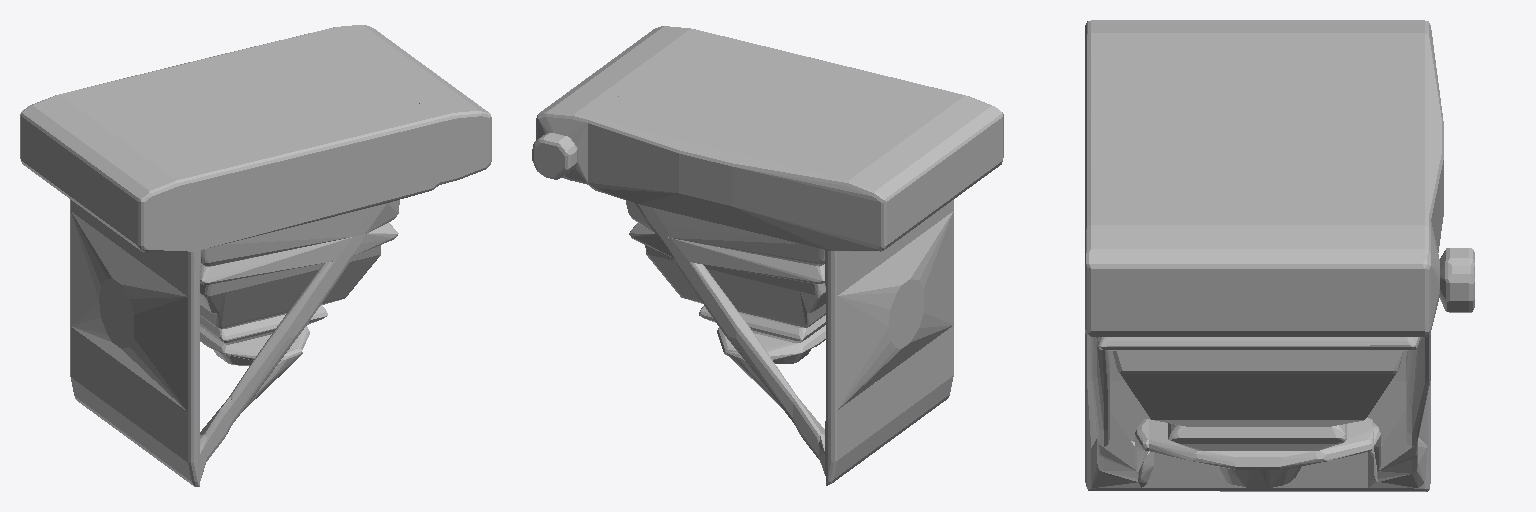
URDF robot description (root):
<robot name="root">
  <link name="link_coacd_convex_piece_0">
    <inertial>
      <origin xyz="0 0 0" rpy="0 0 0"/>
      <inertia ixx="3.41E-02" ixy="-5.13E-04" ixz="6.03E-03" iyy="4.55E-02" iyz="1.06E-03" izz="3.41E-02"/>
    </inertial>
    <visual>
      <origin xyz="0 0 0" rpy="0 0 0"/>
      <geometry>
        <mesh filename="coacd_convex_piece_0.obj" scale="1.0000E+00 1.0000E+00 1.0000E+00"/>
      </geometry>
      <material name="">
        <color rgba="7.50E-01 7.50E-01 7.50E-01 1"/>
      </material>
    </visual>
    <collision>
      <origin xyz="0 0 0" rpy="0 0 0"/>
      <geometry>
        <mesh filename="coacd_convex_piece_0.obj" scale="1.0000E+00 1.0000E+00 1.0000E+00"/>
      </geometry>
    </collision>
  </link>
  <link name="link_coacd_convex_piece_1">
    <inertial>
      <origin xyz="0 0 0" rpy="0 0 0"/>
      <inertia ixx="9.69E-05" ixy="-1.10E-04" ixz="4.64E-04" iyy="8.92E-04" iyz="-1.34E-05" izz="1.34E-03"/>
    </inertial>
    <visual>
      <origin xyz="0 0 0" rpy="0 0 0"/>
      <geometry>
        <mesh filename="coacd_convex_piece_1.obj" scale="1.0000E+00 1.0000E+00 1.0000E+00"/>
      </geometry>
      <material name="">
        <color rgba="7.50E-01 7.50E-01 7.50E-01 1"/>
      </material>
    </visual>
    <collision>
      <origin xyz="0 0 0" rpy="0 0 0"/>
      <geometry>
        <mesh filename="coacd_convex_piece_1.obj" scale="1.0000E+00 1.0000E+00 1.0000E+00"/>
      </geometry>
    </collision>
  </link>
  <joint name="link_coacd_convex_piece_1_joint" type="fixed">
    <origin xyz="0 0 0" rpy="0 0 0"/>
    <parent link="link_coacd_convex_piece_0"/>
    <child link="link_coacd_convex_piece_1"/>
  </joint>
  <link name="link_coacd_convex_piece_2">
    <inertial>
      <origin xyz="0 0 0" rpy="0 0 0"/>
      <inertia ixx="-1.05E-04" ixy="-4.88E-07" ixz="-1.37E-04" iyy="-1.54E-04" iyz="-1.51E-04" izz="1.48E-04"/>
    </inertial>
    <visual>
      <origin xyz="0 0 0" rpy="0 0 0"/>
      <geometry>
        <mesh filename="coacd_convex_piece_2.obj" scale="1.0000E+00 1.0000E+00 1.0000E+00"/>
      </geometry>
      <material name="">
        <color rgba="7.50E-01 7.50E-01 7.50E-01 1"/>
      </material>
    </visual>
    <collision>
      <origin xyz="0 0 0" rpy="0 0 0"/>
      <geometry>
        <mesh filename="coacd_convex_piece_2.obj" scale="1.0000E+00 1.0000E+00 1.0000E+00"/>
      </geometry>
    </collision>
  </link>
  <joint name="link_coacd_convex_piece_2_joint" type="fixed">
    <origin xyz="0 0 0" rpy="0 0 0"/>
    <parent link="link_coacd_convex_piece_1"/>
    <child link="link_coacd_convex_piece_2"/>
  </joint>
  <link name="link_coacd_convex_piece_3">
    <inertial>
      <origin xyz="0 0 0" rpy="0 0 0"/>
      <inertia ixx="1.36E-03" ixy="-2.18E-05" ixz="-2.93E-05" iyy="1.25E-03" iyz="-8.63E-05" izz="4.49E-03"/>
    </inertial>
    <visual>
      <origin xyz="0 0 0" rpy="0 0 0"/>
      <geometry>
        <mesh filename="coacd_convex_piece_3.obj" scale="1.0000E+00 1.0000E+00 1.0000E+00"/>
      </geometry>
      <material name="">
        <color rgba="7.50E-01 7.50E-01 7.50E-01 1"/>
      </material>
    </visual>
    <collision>
      <origin xyz="0 0 0" rpy="0 0 0"/>
      <geometry>
        <mesh filename="coacd_convex_piece_3.obj" scale="1.0000E+00 1.0000E+00 1.0000E+00"/>
      </geometry>
    </collision>
  </link>
  <joint name="link_coacd_convex_piece_3_joint" type="fixed">
    <origin xyz="0 0 0" rpy="0 0 0"/>
    <parent link="link_coacd_convex_piece_2"/>
    <child link="link_coacd_convex_piece_3"/>
  </joint>
  <link name="link_coacd_convex_piece_4">
    <inertial>
      <origin xyz="0 0 0" rpy="0 0 0"/>
      <inertia ixx="-2.73E-04" ixy="-1.05E-05" ixz="-1.44E-04" iyy="-4.40E-04" iyz="-1.98E-04" izz="3.05E-03"/>
    </inertial>
    <visual>
      <origin xyz="0 0 0" rpy="0 0 0"/>
      <geometry>
        <mesh filename="coacd_convex_piece_4.obj" scale="1.0000E+00 1.0000E+00 1.0000E+00"/>
      </geometry>
      <material name="">
        <color rgba="7.50E-01 7.50E-01 7.50E-01 1"/>
      </material>
    </visual>
    <collision>
      <origin xyz="0 0 0" rpy="0 0 0"/>
      <geometry>
        <mesh filename="coacd_convex_piece_4.obj" scale="1.0000E+00 1.0000E+00 1.0000E+00"/>
      </geometry>
    </collision>
  </link>
  <joint name="link_coacd_convex_piece_4_joint" type="fixed">
    <origin xyz="0 0 0" rpy="0 0 0"/>
    <parent link="link_coacd_convex_piece_3"/>
    <child link="link_coacd_convex_piece_4"/>
  </joint>
  <link name="link_coacd_convex_piece_5">
    <inertial>
      <origin xyz="0 0 0" rpy="0 0 0"/>
      <inertia ixx="6.57E-05" ixy="4.93E-05" ixz="-5.68E-05" iyy="-7.94E-05" iyz="2.20E-05" izz="2.08E-04"/>
    </inertial>
    <visual>
      <origin xyz="0 0 0" rpy="0 0 0"/>
      <geometry>
        <mesh filename="coacd_convex_piece_5.obj" scale="1.0000E+00 1.0000E+00 1.0000E+00"/>
      </geometry>
      <material name="">
        <color rgba="7.50E-01 7.50E-01 7.50E-01 1"/>
      </material>
    </visual>
    <collision>
      <origin xyz="0 0 0" rpy="0 0 0"/>
      <geometry>
        <mesh filename="coacd_convex_piece_5.obj" scale="1.0000E+00 1.0000E+00 1.0000E+00"/>
      </geometry>
    </collision>
  </link>
  <joint name="link_coacd_convex_piece_5_joint" type="fixed">
    <origin xyz="0 0 0" rpy="0 0 0"/>
    <parent link="link_coacd_convex_piece_4"/>
    <child link="link_coacd_convex_piece_5"/>
  </joint>
  <link name="link_coacd_convex_piece_6">
    <inertial>
      <origin xyz="0 0 0" rpy="0 0 0"/>
      <inertia ixx="-1.96E-04" ixy="-6.69E-05" ixz="6.57E-05" iyy="1.43E-04" iyz="-4.44E-05" izz="6.41E-04"/>
    </inertial>
    <visual>
      <origin xyz="0 0 0" rpy="0 0 0"/>
      <geometry>
        <mesh filename="coacd_convex_piece_6.obj" scale="1.0000E+00 1.0000E+00 1.0000E+00"/>
      </geometry>
      <material name="">
        <color rgba="7.50E-01 7.50E-01 7.50E-01 1"/>
      </material>
    </visual>
    <collision>
      <origin xyz="0 0 0" rpy="0 0 0"/>
      <geometry>
        <mesh filename="coacd_convex_piece_6.obj" scale="1.0000E+00 1.0000E+00 1.0000E+00"/>
      </geometry>
    </collision>
  </link>
  <joint name="link_coacd_convex_piece_6_joint" type="fixed">
    <origin xyz="0 0 0" rpy="0 0 0"/>
    <parent link="link_coacd_convex_piece_5"/>
    <child link="link_coacd_convex_piece_6"/>
  </joint>
  <link name="link_coacd_convex_piece_7">
    <inertial>
      <origin xyz="0 0 0" rpy="0 0 0"/>
      <inertia ixx="-4.03E-04" ixy="-3.81E-04" ixz="-7.99E-04" iyy="2.71E-03" iyz="-3.07E-04" izz="4.66E-03"/>
    </inertial>
    <visual>
      <origin xyz="0 0 0" rpy="0 0 0"/>
      <geometry>
        <mesh filename="coacd_convex_piece_7.obj" scale="1.0000E+00 1.0000E+00 1.0000E+00"/>
      </geometry>
      <material name="">
        <color rgba="7.50E-01 7.50E-01 7.50E-01 1"/>
      </material>
    </visual>
    <collision>
      <origin xyz="0 0 0" rpy="0 0 0"/>
      <geometry>
        <mesh filename="coacd_convex_piece_7.obj" scale="1.0000E+00 1.0000E+00 1.0000E+00"/>
      </geometry>
    </collision>
  </link>
  <joint name="link_coacd_convex_piece_7_joint" type="fixed">
    <origin xyz="0 0 0" rpy="0 0 0"/>
    <parent link="link_coacd_convex_piece_6"/>
    <child link="link_coacd_convex_piece_7"/>
  </joint>
  <link name="link_coacd_convex_piece_8">
    <inertial>
      <origin xyz="0 0 0" rpy="0 0 0"/>
      <inertia ixx="1.07E-03" ixy="-1.59E-04" ixz="-1.49E-03" iyy="2.22E-03" iyz="-2.59E-04" izz="1.93E-03"/>
    </inertial>
    <visual>
      <origin xyz="0 0 0" rpy="0 0 0"/>
      <geometry>
        <mesh filename="coacd_convex_piece_8.obj" scale="1.0000E+00 1.0000E+00 1.0000E+00"/>
      </geometry>
      <material name="">
        <color rgba="7.50E-01 7.50E-01 7.50E-01 1"/>
      </material>
    </visual>
    <collision>
      <origin xyz="0 0 0" rpy="0 0 0"/>
      <geometry>
        <mesh filename="coacd_convex_piece_8.obj" scale="1.0000E+00 1.0000E+00 1.0000E+00"/>
      </geometry>
    </collision>
  </link>
  <joint name="link_coacd_convex_piece_8_joint" type="fixed">
    <origin xyz="0 0 0" rpy="0 0 0"/>
    <parent link="link_coacd_convex_piece_7"/>
    <child link="link_coacd_convex_piece_8"/>
  </joint>
  <link name="link_coacd_convex_piece_9">
    <inertial>
      <origin xyz="0 0 0" rpy="0 0 0"/>
      <inertia ixx="3.09E-04" ixy="-2.52E-04" ixz="-2.84E-04" iyy="4.63E-04" iyz="-2.18E-04" izz="5.29E-04"/>
    </inertial>
    <visual>
      <origin xyz="0 0 0" rpy="0 0 0"/>
      <geometry>
        <mesh filename="coacd_convex_piece_9.obj" scale="1.0000E+00 1.0000E+00 1.0000E+00"/>
      </geometry>
      <material name="">
        <color rgba="7.50E-01 7.50E-01 7.50E-01 1"/>
      </material>
    </visual>
    <collision>
      <origin xyz="0 0 0" rpy="0 0 0"/>
      <geometry>
        <mesh filename="coacd_convex_piece_9.obj" scale="1.0000E+00 1.0000E+00 1.0000E+00"/>
      </geometry>
    </collision>
  </link>
  <joint name="link_coacd_convex_piece_9_joint" type="fixed">
    <origin xyz="0 0 0" rpy="0 0 0"/>
    <parent link="link_coacd_convex_piece_8"/>
    <child link="link_coacd_convex_piece_9"/>
  </joint>
  <link name="link_coacd_convex_piece_10">
    <inertial>
      <origin xyz="0 0 0" rpy="0 0 0"/>
      <inertia ixx="5.53E-03" ixy="9.15E-04" ixz="-8.52E-03" iyy="1.42E-02" iyz="2.16E-04" izz="1.22E-02"/>
    </inertial>
    <visual>
      <origin xyz="0 0 0" rpy="0 0 0"/>
      <geometry>
        <mesh filename="coacd_convex_piece_10.obj" scale="1.0000E+00 1.0000E+00 1.0000E+00"/>
      </geometry>
      <material name="">
        <color rgba="7.50E-01 7.50E-01 7.50E-01 1"/>
      </material>
    </visual>
    <collision>
      <origin xyz="0 0 0" rpy="0 0 0"/>
      <geometry>
        <mesh filename="coacd_convex_piece_10.obj" scale="1.0000E+00 1.0000E+00 1.0000E+00"/>
      </geometry>
    </collision>
  </link>
  <joint name="link_coacd_convex_piece_10_joint" type="fixed">
    <origin xyz="0 0 0" rpy="0 0 0"/>
    <parent link="link_coacd_convex_piece_9"/>
    <child link="link_coacd_convex_piece_10"/>
  </joint>
  <link name="link_coacd_convex_piece_11">
    <inertial>
      <origin xyz="0 0 0" rpy="0 0 0"/>
      <inertia ixx="-3.49E-03" ixy="4.41E-05" ixz="-8.05E-04" iyy="-3.84E-03" iyz="-8.83E-04" izz="3.74E-03"/>
    </inertial>
    <visual>
      <origin xyz="0 0 0" rpy="0 0 0"/>
      <geometry>
        <mesh filename="coacd_convex_piece_11.obj" scale="1.0000E+00 1.0000E+00 1.0000E+00"/>
      </geometry>
      <material name="">
        <color rgba="7.50E-01 7.50E-01 7.50E-01 1"/>
      </material>
    </visual>
    <collision>
      <origin xyz="0 0 0" rpy="0 0 0"/>
      <geometry>
        <mesh filename="coacd_convex_piece_11.obj" scale="1.0000E+00 1.0000E+00 1.0000E+00"/>
      </geometry>
    </collision>
  </link>
  <joint name="link_coacd_convex_piece_11_joint" type="fixed">
    <origin xyz="0 0 0" rpy="0 0 0"/>
    <parent link="link_coacd_convex_piece_10"/>
    <child link="link_coacd_convex_piece_11"/>
  </joint>
  <link name="link_coacd_convex_piece_12">
    <inertial>
      <origin xyz="0 0 0" rpy="0 0 0"/>
      <inertia ixx="1.53E-04" ixy="-5.00E-05" ixz="-4.79E-05" iyy="-5.66E-05" iyz="-7.41E-05" izz="2.65E-04"/>
    </inertial>
    <visual>
      <origin xyz="0 0 0" rpy="0 0 0"/>
      <geometry>
        <mesh filename="coacd_convex_piece_12.obj" scale="1.0000E+00 1.0000E+00 1.0000E+00"/>
      </geometry>
      <material name="">
        <color rgba="7.50E-01 7.50E-01 7.50E-01 1"/>
      </material>
    </visual>
    <collision>
      <origin xyz="0 0 0" rpy="0 0 0"/>
      <geometry>
        <mesh filename="coacd_convex_piece_12.obj" scale="1.0000E+00 1.0000E+00 1.0000E+00"/>
      </geometry>
    </collision>
  </link>
  <joint name="link_coacd_convex_piece_12_joint" type="fixed">
    <origin xyz="0 0 0" rpy="0 0 0"/>
    <parent link="link_coacd_convex_piece_11"/>
    <child link="link_coacd_convex_piece_12"/>
  </joint>
  <link name="link_coacd_convex_piece_13">
    <inertial>
      <origin xyz="0 0 0" rpy="0 0 0"/>
      <inertia ixx="1.16E-04" ixy="-6.34E-05" ixz="-8.76E-05" iyy="1.32E-04" iyz="-7.88E-05" izz="1.28E-04"/>
    </inertial>
    <visual>
      <origin xyz="0 0 0" rpy="0 0 0"/>
      <geometry>
        <mesh filename="coacd_convex_piece_13.obj" scale="1.0000E+00 1.0000E+00 1.0000E+00"/>
      </geometry>
      <material name="">
        <color rgba="7.50E-01 7.50E-01 7.50E-01 1"/>
      </material>
    </visual>
    <collision>
      <origin xyz="0 0 0" rpy="0 0 0"/>
      <geometry>
        <mesh filename="coacd_convex_piece_13.obj" scale="1.0000E+00 1.0000E+00 1.0000E+00"/>
      </geometry>
    </collision>
  </link>
  <joint name="link_coacd_convex_piece_13_joint" type="fixed">
    <origin xyz="0 0 0" rpy="0 0 0"/>
    <parent link="link_coacd_convex_piece_12"/>
    <child link="link_coacd_convex_piece_13"/>
  </joint>
  <link name="link_coacd_convex_piece_14">
    <inertial>
      <origin xyz="0 0 0" rpy="0 0 0"/>
      <inertia ixx="1.30E-05" ixy="7.32E-06" ixz="-1.29E-05" iyy="9.36E-06" iyz="1.13E-05" izz="1.52E-05"/>
    </inertial>
    <visual>
      <origin xyz="0 0 0" rpy="0 0 0"/>
      <geometry>
        <mesh filename="coacd_convex_piece_14.obj" scale="1.0000E+00 1.0000E+00 1.0000E+00"/>
      </geometry>
      <material name="">
        <color rgba="7.50E-01 7.50E-01 7.50E-01 1"/>
      </material>
    </visual>
    <collision>
      <origin xyz="0 0 0" rpy="0 0 0"/>
      <geometry>
        <mesh filename="coacd_convex_piece_14.obj" scale="1.0000E+00 1.0000E+00 1.0000E+00"/>
      </geometry>
    </collision>
  </link>
  <joint name="link_coacd_convex_piece_14_joint" type="fixed">
    <origin xyz="0 0 0" rpy="0 0 0"/>
    <parent link="link_coacd_convex_piece_13"/>
    <child link="link_coacd_convex_piece_14"/>
  </joint>
  <link name="link_coacd_convex_piece_15">
    <inertial>
      <origin xyz="0 0 0" rpy="0 0 0"/>
      <inertia ixx="-4.66E-04" ixy="-3.99E-06" ixz="-1.79E-04" iyy="-4.67E-04" iyz="-2.17E-04" izz="2.43E-04"/>
    </inertial>
    <visual>
      <origin xyz="0 0 0" rpy="0 0 0"/>
      <geometry>
        <mesh filename="coacd_convex_piece_15.obj" scale="1.0000E+00 1.0000E+00 1.0000E+00"/>
      </geometry>
      <material name="">
        <color rgba="7.50E-01 7.50E-01 7.50E-01 1"/>
      </material>
    </visual>
    <collision>
      <origin xyz="0 0 0" rpy="0 0 0"/>
      <geometry>
        <mesh filename="coacd_convex_piece_15.obj" scale="1.0000E+00 1.0000E+00 1.0000E+00"/>
      </geometry>
    </collision>
  </link>
  <joint name="link_coacd_convex_piece_15_joint" type="fixed">
    <origin xyz="0 0 0" rpy="0 0 0"/>
    <parent link="link_coacd_convex_piece_14"/>
    <child link="link_coacd_convex_piece_15"/>
  </joint>
  <link name="link_coacd_convex_piece_16">
    <inertial>
      <origin xyz="0 0 0" rpy="0 0 0"/>
      <inertia ixx="4.31E-05" ixy="-1.65E-05" ixz="-2.22E-05" iyy="1.19E-05" iyz="-4.43E-05" izz="4.91E-05"/>
    </inertial>
    <visual>
      <origin xyz="0 0 0" rpy="0 0 0"/>
      <geometry>
        <mesh filename="coacd_convex_piece_16.obj" scale="1.0000E+00 1.0000E+00 1.0000E+00"/>
      </geometry>
      <material name="">
        <color rgba="7.50E-01 7.50E-01 7.50E-01 1"/>
      </material>
    </visual>
    <collision>
      <origin xyz="0 0 0" rpy="0 0 0"/>
      <geometry>
        <mesh filename="coacd_convex_piece_16.obj" scale="1.0000E+00 1.0000E+00 1.0000E+00"/>
      </geometry>
    </collision>
  </link>
  <joint name="link_coacd_convex_piece_16_joint" type="fixed">
    <origin xyz="0 0 0" rpy="0 0 0"/>
    <parent link="link_coacd_convex_piece_15"/>
    <child link="link_coacd_convex_piece_16"/>
  </joint>
  <link name="link_coacd_convex_piece_17">
    <inertial>
      <origin xyz="0 0 0" rpy="0 0 0"/>
      <inertia ixx="8.26E-06" ixy="-9.40E-07" ixz="-5.45E-05" iyy="8.78E-06" iyz="-6.43E-05" izz="1.49E-05"/>
    </inertial>
    <visual>
      <origin xyz="0 0 0" rpy="0 0 0"/>
      <geometry>
        <mesh filename="coacd_convex_piece_17.obj" scale="1.0000E+00 1.0000E+00 1.0000E+00"/>
      </geometry>
      <material name="">
        <color rgba="7.50E-01 7.50E-01 7.50E-01 1"/>
      </material>
    </visual>
    <collision>
      <origin xyz="0 0 0" rpy="0 0 0"/>
      <geometry>
        <mesh filename="coacd_convex_piece_17.obj" scale="1.0000E+00 1.0000E+00 1.0000E+00"/>
      </geometry>
    </collision>
  </link>
  <joint name="link_coacd_convex_piece_17_joint" type="fixed">
    <origin xyz="0 0 0" rpy="0 0 0"/>
    <parent link="link_coacd_convex_piece_16"/>
    <child link="link_coacd_convex_piece_17"/>
  </joint>
  <link name="link_coacd_convex_piece_18">
    <inertial>
      <origin xyz="0 0 0" rpy="0 0 0"/>
      <inertia ixx="1.31E-04" ixy="7.90E-05" ixz="-1.28E-04" iyy="1.71E-04" iyz="7.98E-05" izz="1.58E-04"/>
    </inertial>
    <visual>
      <origin xyz="0 0 0" rpy="0 0 0"/>
      <geometry>
        <mesh filename="coacd_convex_piece_18.obj" scale="1.0000E+00 1.0000E+00 1.0000E+00"/>
      </geometry>
      <material name="">
        <color rgba="7.50E-01 7.50E-01 7.50E-01 1"/>
      </material>
    </visual>
    <collision>
      <origin xyz="0 0 0" rpy="0 0 0"/>
      <geometry>
        <mesh filename="coacd_convex_piece_18.obj" scale="1.0000E+00 1.0000E+00 1.0000E+00"/>
      </geometry>
    </collision>
  </link>
  <joint name="link_coacd_convex_piece_18_joint" type="fixed">
    <origin xyz="0 0 0" rpy="0 0 0"/>
    <parent link="link_coacd_convex_piece_17"/>
    <child link="link_coacd_convex_piece_18"/>
  </joint>
  <link name="link_coacd_convex_piece_19">
    <inertial>
      <origin xyz="0 0 0" rpy="0 0 0"/>
      <inertia ixx="7.77E-05" ixy="4.13E-05" ixz="-7.58E-05" iyy="1.14E-04" iyz="4.14E-05" izz="8.83E-05"/>
    </inertial>
    <visual>
      <origin xyz="0 0 0" rpy="0 0 0"/>
      <geometry>
        <mesh filename="coacd_convex_piece_19.obj" scale="1.0000E+00 1.0000E+00 1.0000E+00"/>
      </geometry>
      <material name="">
        <color rgba="7.50E-01 7.50E-01 7.50E-01 1"/>
      </material>
    </visual>
    <collision>
      <origin xyz="0 0 0" rpy="0 0 0"/>
      <geometry>
        <mesh filename="coacd_convex_piece_19.obj" scale="1.0000E+00 1.0000E+00 1.0000E+00"/>
      </geometry>
    </collision>
  </link>
  <joint name="link_coacd_convex_piece_19_joint" type="fixed">
    <origin xyz="0 0 0" rpy="0 0 0"/>
    <parent link="link_coacd_convex_piece_18"/>
    <child link="link_coacd_convex_piece_19"/>
  </joint>
  <link name="link_coacd_convex_piece_20">
    <inertial>
      <origin xyz="0 0 0" rpy="0 0 0"/>
      <inertia ixx="1.81E-04" ixy="-1.04E-04" ixz="-1.26E-04" iyy="1.68E-04" iyz="-1.35E-04" izz="2.10E-04"/>
    </inertial>
    <visual>
      <origin xyz="0 0 0" rpy="0 0 0"/>
      <geometry>
        <mesh filename="coacd_convex_piece_20.obj" scale="1.0000E+00 1.0000E+00 1.0000E+00"/>
      </geometry>
      <material name="">
        <color rgba="7.50E-01 7.50E-01 7.50E-01 1"/>
      </material>
    </visual>
    <collision>
      <origin xyz="0 0 0" rpy="0 0 0"/>
      <geometry>
        <mesh filename="coacd_convex_piece_20.obj" scale="1.0000E+00 1.0000E+00 1.0000E+00"/>
      </geometry>
    </collision>
  </link>
  <joint name="link_coacd_convex_piece_20_joint" type="fixed">
    <origin xyz="0 0 0" rpy="0 0 0"/>
    <parent link="link_coacd_convex_piece_19"/>
    <child link="link_coacd_convex_piece_20"/>
  </joint>
</robot>

--- Facts derived from the render (not from the file) ---
The picture shows the robot from 3 angles, left to right: view 1: azimuth 30°, elevation 25°; view 2: azimuth 150°, elevation 25°; view 3: azimuth 270°, elevation 25°; orthographic projection.
Robot: root — 21 links, 20 joints (20 fixed); root link link_coacd_convex_piece_0; default pose: all joints at 0.
Visible links, largest first — view 1: link_coacd_convex_piece_0, link_coacd_convex_piece_7, link_coacd_convex_piece_8, link_coacd_convex_piece_10, link_coacd_convex_piece_11, link_coacd_convex_piece_3, link_coacd_convex_piece_12, link_coacd_convex_piece_4, link_coacd_convex_piece_1, link_coacd_convex_piece_15, link_coacd_convex_piece_2, link_coacd_convex_piece_20 (+2 smaller); view 2: link_coacd_convex_piece_0, link_coacd_convex_piece_7, link_coacd_convex_piece_8, link_coacd_convex_piece_10, link_coacd_convex_piece_11, link_coacd_convex_piece_3, link_coacd_convex_piece_5, link_coacd_convex_piece_4, link_coacd_convex_piece_1, link_coacd_convex_piece_9, link_coacd_convex_piece_15, link_coacd_convex_piece_2 (+2 smaller); view 3: link_coacd_convex_piece_0, link_coacd_convex_piece_10, link_coacd_convex_piece_11, link_coacd_convex_piece_8, link_coacd_convex_piece_4, link_coacd_convex_piece_2, link_coacd_convex_piece_15, link_coacd_convex_piece_9, link_coacd_convex_piece_5, link_coacd_convex_piece_18, link_coacd_convex_piece_20, link_coacd_convex_piece_12 (+5 smaller).
Boxes of the visible links, x1,y1,x2,y2 form: link_coacd_convex_piece_0: (20, 31, 439, 251); link_coacd_convex_piece_7: (70, 211, 199, 412); link_coacd_convex_piece_8: (70, 326, 199, 486); link_coacd_convex_piece_10: (321, 25, 491, 184); link_coacd_convex_piece_11: (200, 245, 380, 328); link_coacd_convex_piece_3: (201, 200, 399, 266); link_coacd_convex_piece_12: (229, 256, 353, 424); link_coacd_convex_piece_4: (200, 223, 398, 284); link_coacd_convex_piece_1: (70, 199, 200, 297); link_coacd_convex_piece_15: (200, 305, 327, 344); link_coacd_convex_piece_2: (200, 326, 309, 360); link_coacd_convex_piece_20: (200, 398, 231, 460); link_coacd_convex_piece_0: (588, 32, 1003, 251); link_coacd_convex_piece_7: (826, 211, 953, 410); link_coacd_convex_piece_8: (825, 325, 953, 485); link_coacd_convex_piece_10: (536, 26, 705, 184); link_coacd_convex_piece_11: (645, 245, 825, 327); link_coacd_convex_piece_3: (626, 200, 824, 266); link_coacd_convex_piece_5: (673, 258, 796, 422); link_coacd_convex_piece_4: (629, 223, 824, 283); link_coacd_convex_piece_1: (824, 200, 953, 296); link_coacd_convex_piece_9: (532, 132, 577, 179); link_coacd_convex_piece_15: (699, 306, 825, 342); link_coacd_convex_piece_2: (717, 325, 825, 359); link_coacd_convex_piece_0: (1085, 20, 1443, 252); link_coacd_convex_piece_10: (1085, 214, 1439, 336); link_coacd_convex_piece_11: (1113, 351, 1402, 426); link_coacd_convex_piece_8: (1085, 380, 1430, 491); link_coacd_convex_piece_4: (1095, 337, 1422, 350); link_coacd_convex_piece_2: (1149, 417, 1373, 469); link_coacd_convex_piece_15: (1168, 423, 1346, 450); link_coacd_convex_piece_9: (1440, 248, 1474, 312); link_coacd_convex_piece_5: (1406, 333, 1430, 446); link_coacd_convex_piece_18: (1374, 411, 1417, 481); link_coacd_convex_piece_20: (1097, 412, 1142, 481); link_coacd_convex_piece_12: (1091, 337, 1109, 446).
Size in the robot's own frame: 1.36 by 0.9159 by 1.15 metres.
Meshes: 21 distinct files referenced, 21 mesh visuals loaded (21 OBJ).
